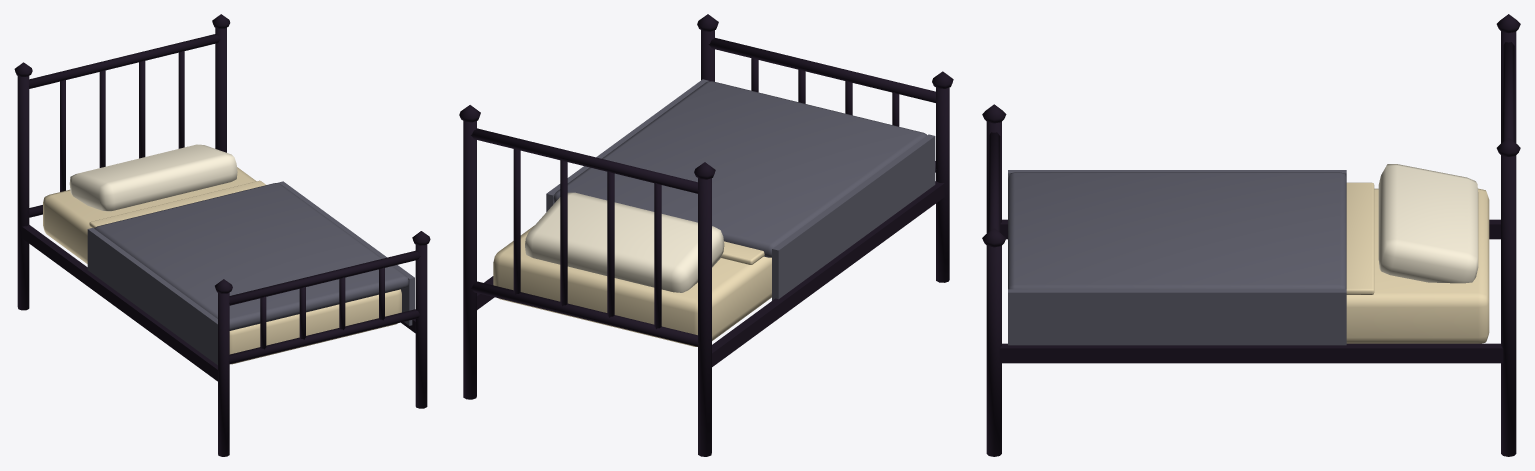
Rendered from bed_small.glb.
3 renders of one model, left to right at view 1: azimuth 30°, elevation 25°; view 2: azimuth 150°, elevation 25°; view 3: azimuth 270°, elevation 25°, orthographic. The views are drawn at different scales.
Parts seen in each view (by area): view 1: bed_small; view 2: bed_small; view 3: bed_small.
Boxes of the visible parts, x1,y1,x2,y2 form: bed_small: (14, 14, 430, 456); bed_small: (459, 14, 953, 456); bed_small: (982, 14, 1520, 456).
Bounding box in the file's own units: 0.574 × 0.63 × 0.974.
